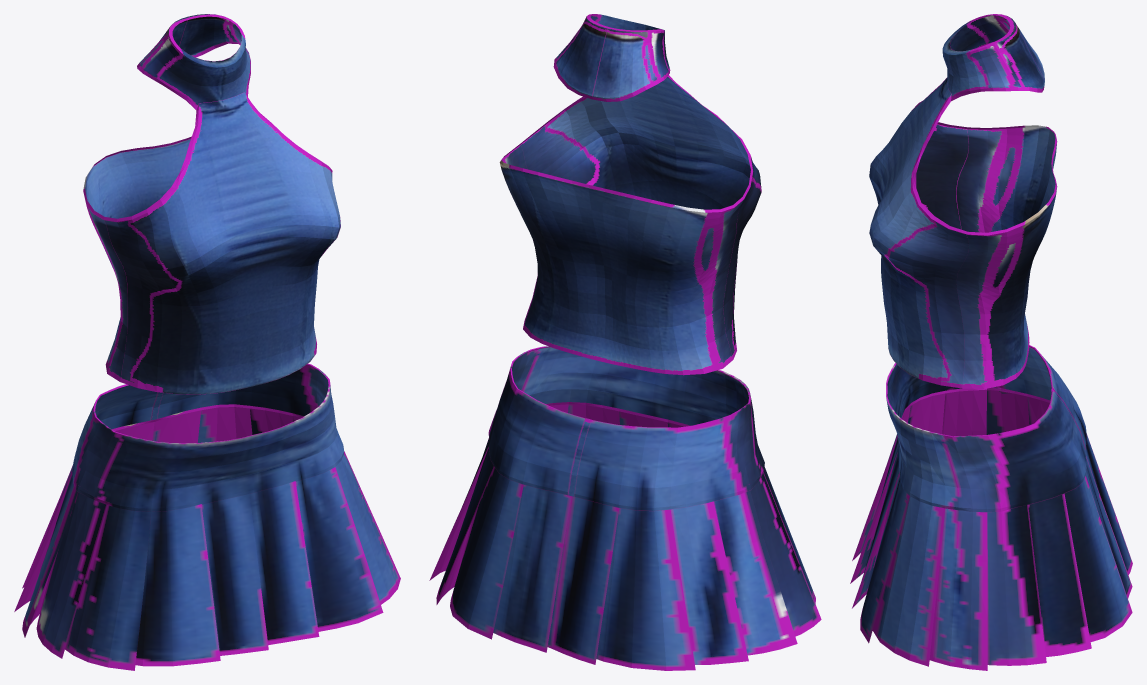
The picture shows the model from 3 angles, left to right: view 1: azimuth 30°, elevation 25°; view 2: azimuth 150°, elevation 25°; view 3: azimuth 270°, elevation 25°; orthographic projection. The views are drawn at different scales.
Size of the model in its own units: 0.6506 by 1.01 by 0.4614.
1 material, 1 textured.
